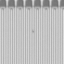dust: (31, 29, 33, 32)
